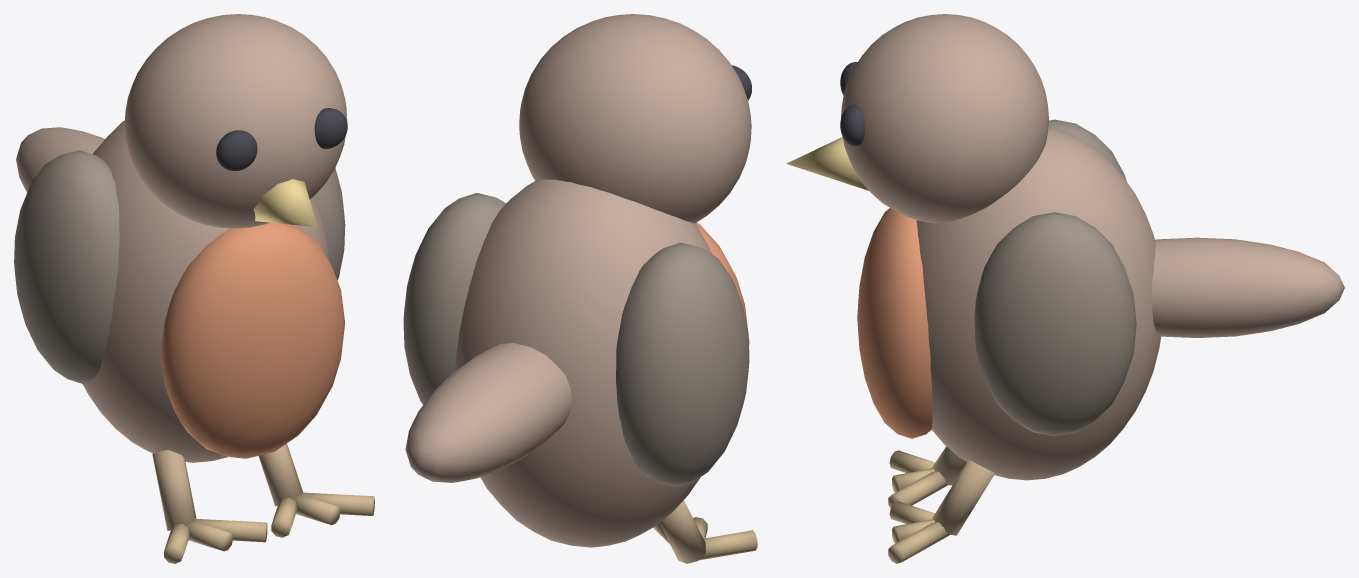
Rendered from bird-robin.glb.
The picture shows the model from 3 angles, left to right: view 1: azimuth 30°, elevation 25°; view 2: azimuth 150°, elevation 25°; view 3: azimuth 270°, elevation 25°; orthographic projection. The views are drawn at different scales.
Visible parts, largest first — view 1: material_8a6552, material_bb512d, material_53473c, material_9b7545, material_8a6643, material_100f13, material_d0a54d; view 2: material_8a6552, material_53473c, material_8a6643, material_9b7545, material_bb512d; view 3: material_8a6552, material_53473c, material_bb512d, material_9b7545, material_8a6643, material_d0a54d, material_100f13.
Part boxes in pixels (x1,y1,x2,y2): material_8a6552: (16, 14, 347, 462); material_bb512d: (160, 222, 344, 458); material_53473c: (14, 150, 345, 384); material_9b7545: (164, 492, 374, 563); material_8a6643: (152, 443, 302, 530); material_100f13: (216, 108, 347, 170); material_d0a54d: (253, 179, 317, 226); material_8a6552: (405, 14, 751, 547); material_53473c: (403, 193, 749, 487); material_8a6643: (659, 500, 705, 563); material_9b7545: (653, 517, 757, 560); material_bb512d: (695, 222, 749, 344); material_8a6552: (841, 14, 1344, 480); material_53473c: (974, 119, 1136, 436); material_bb512d: (857, 208, 932, 438); material_9b7545: (888, 450, 950, 563); material_8a6643: (932, 446, 995, 535); material_d0a54d: (786, 137, 868, 190); material_100f13: (840, 62, 865, 146).
Bounding box in the file's own units: 0.62 × 0.9777 × 1.02.
